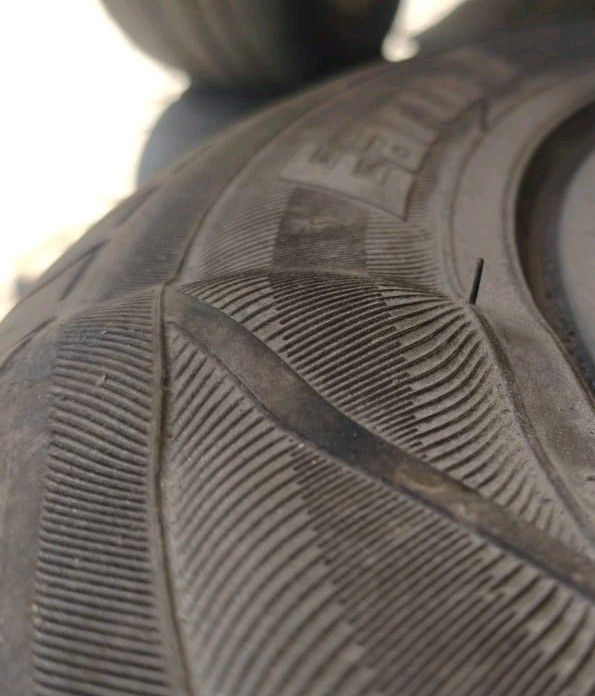CBU: (51, 274, 495, 446)
